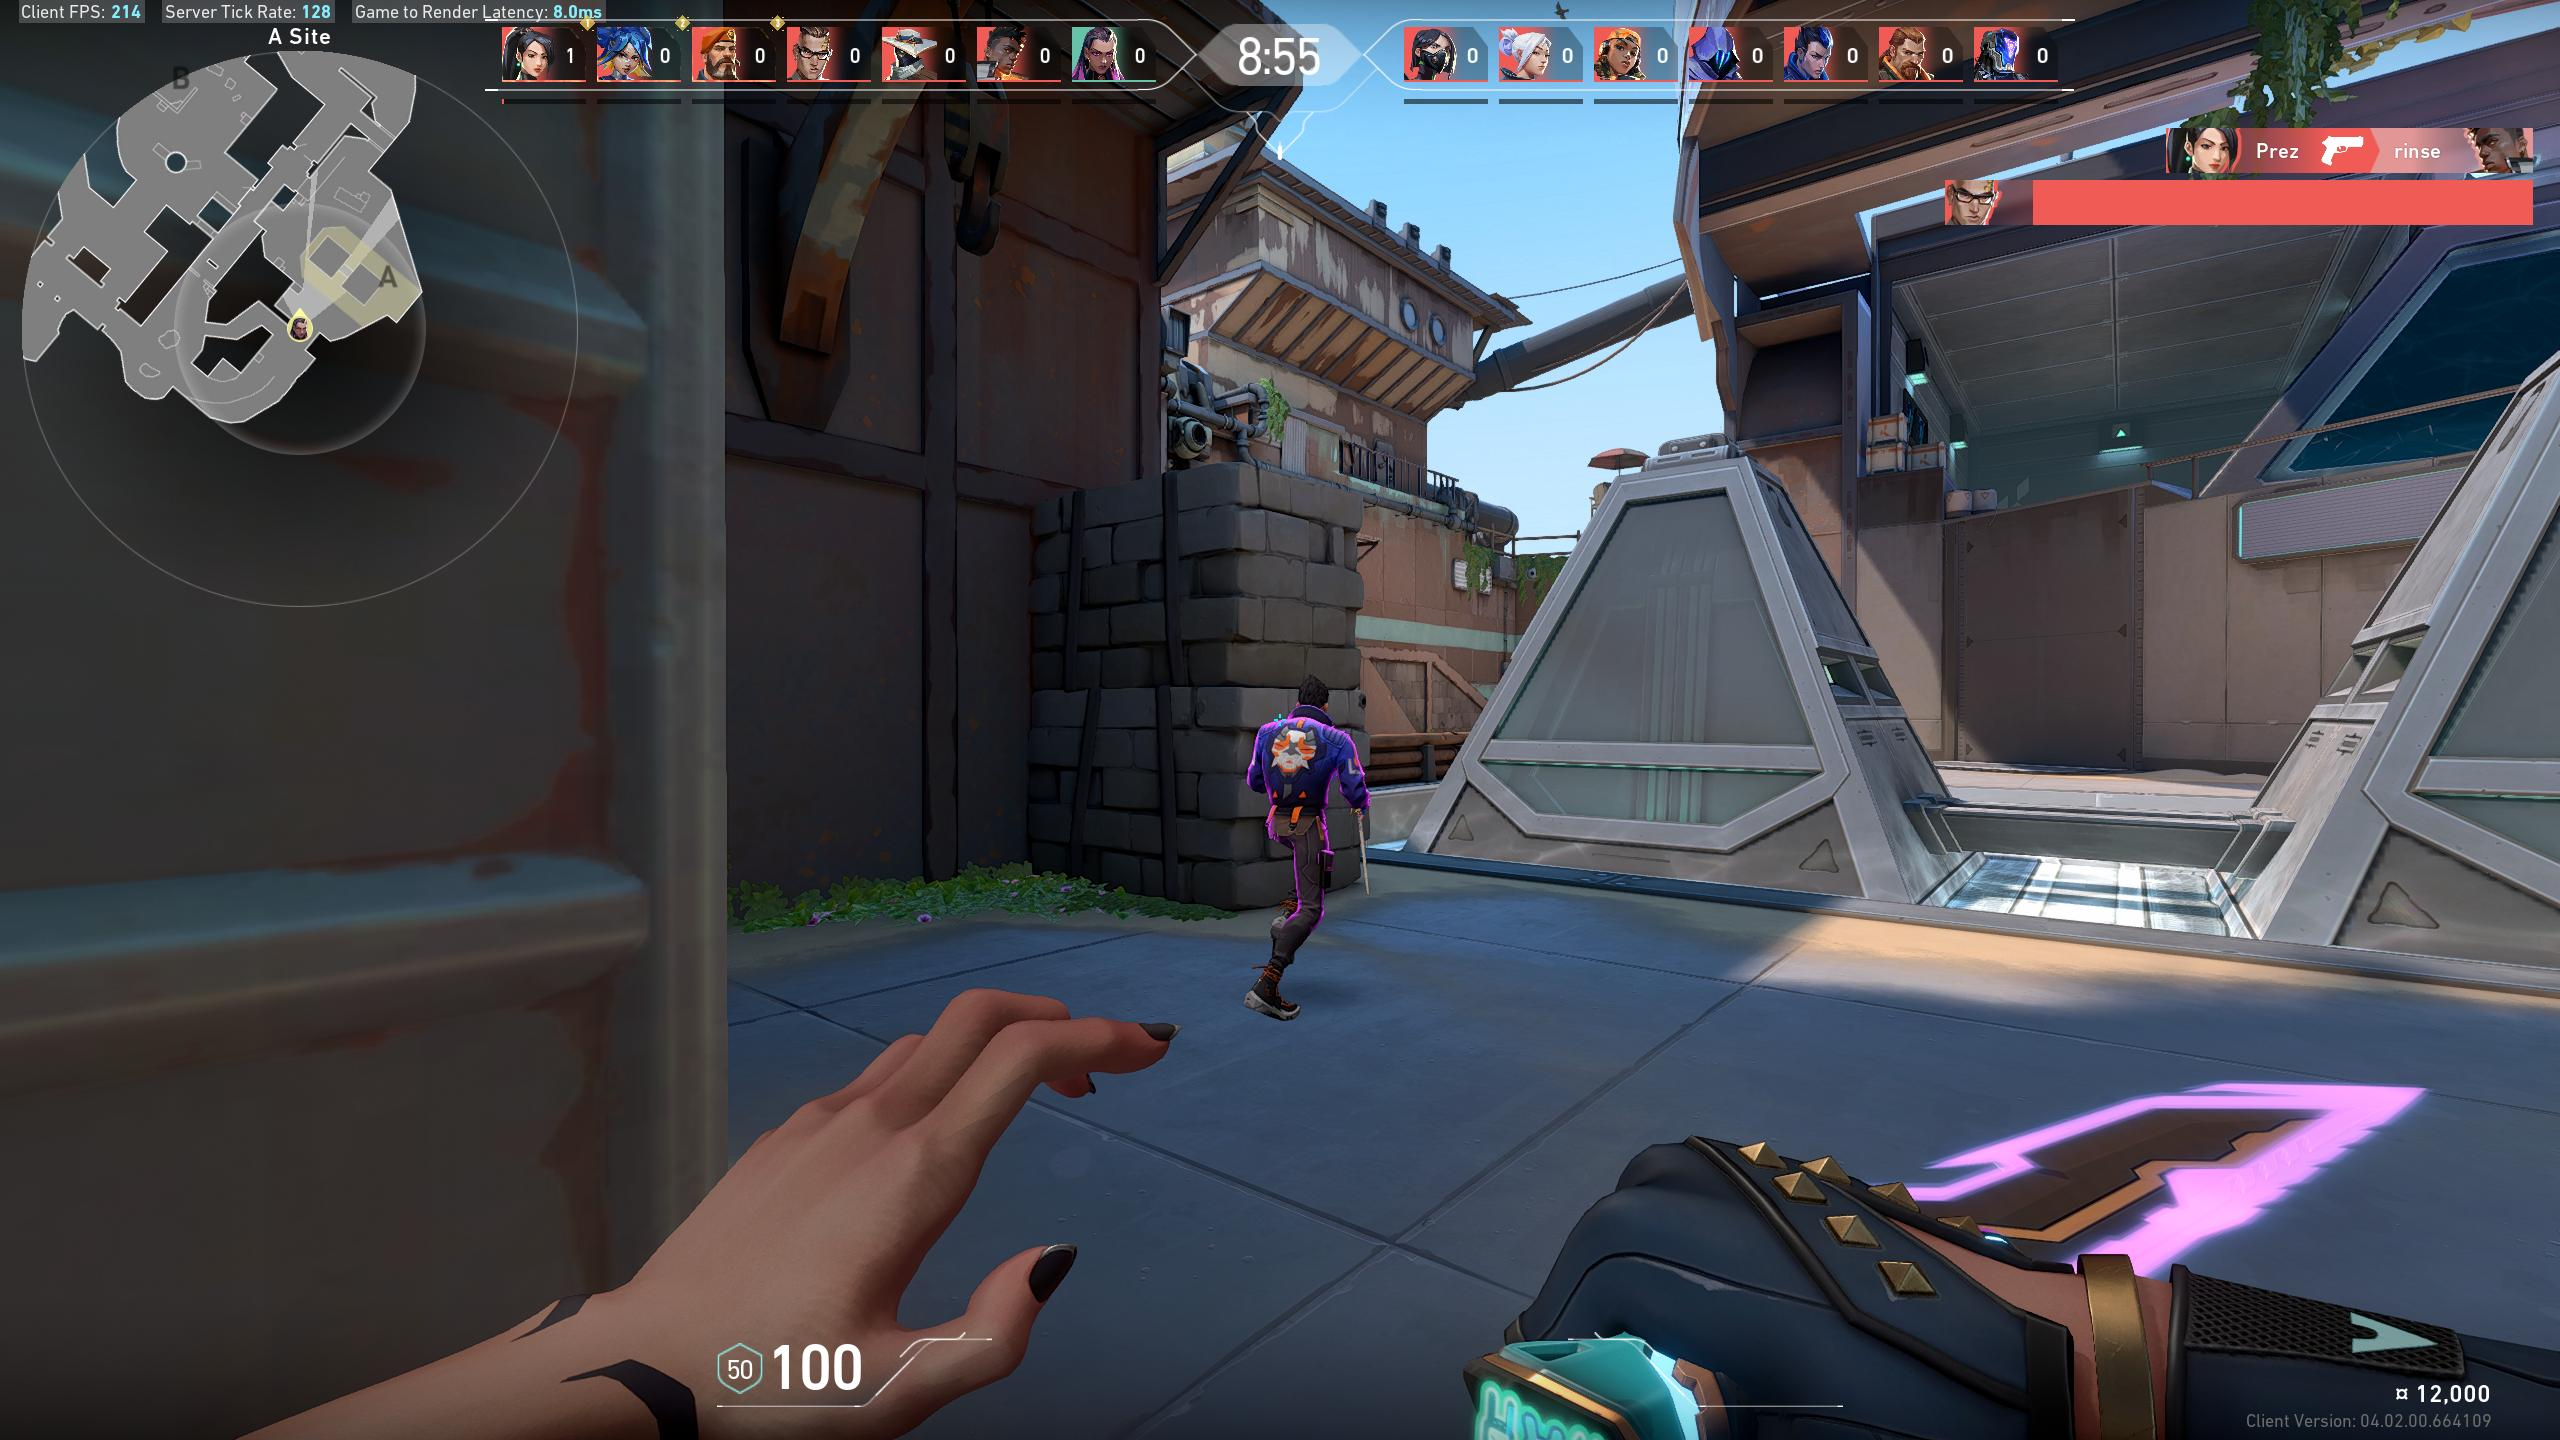enemyBody: (1275, 724, 1313, 811)
enemyHead: (1303, 687, 1322, 716)
